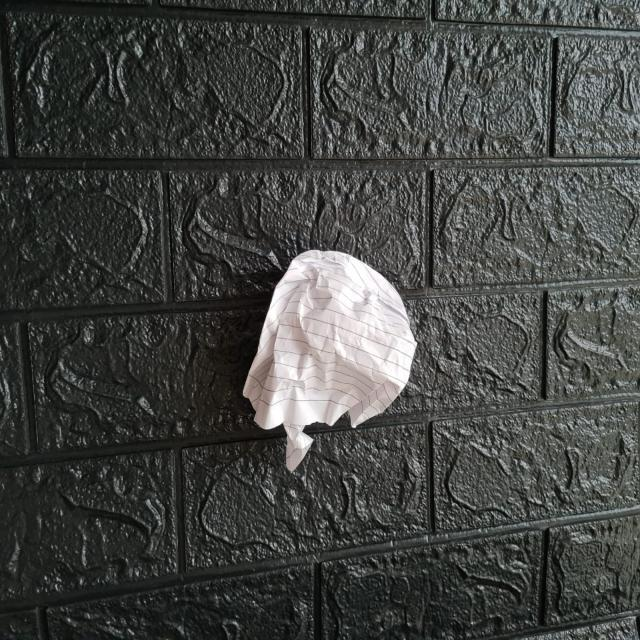Paper: (245, 254, 413, 475)
